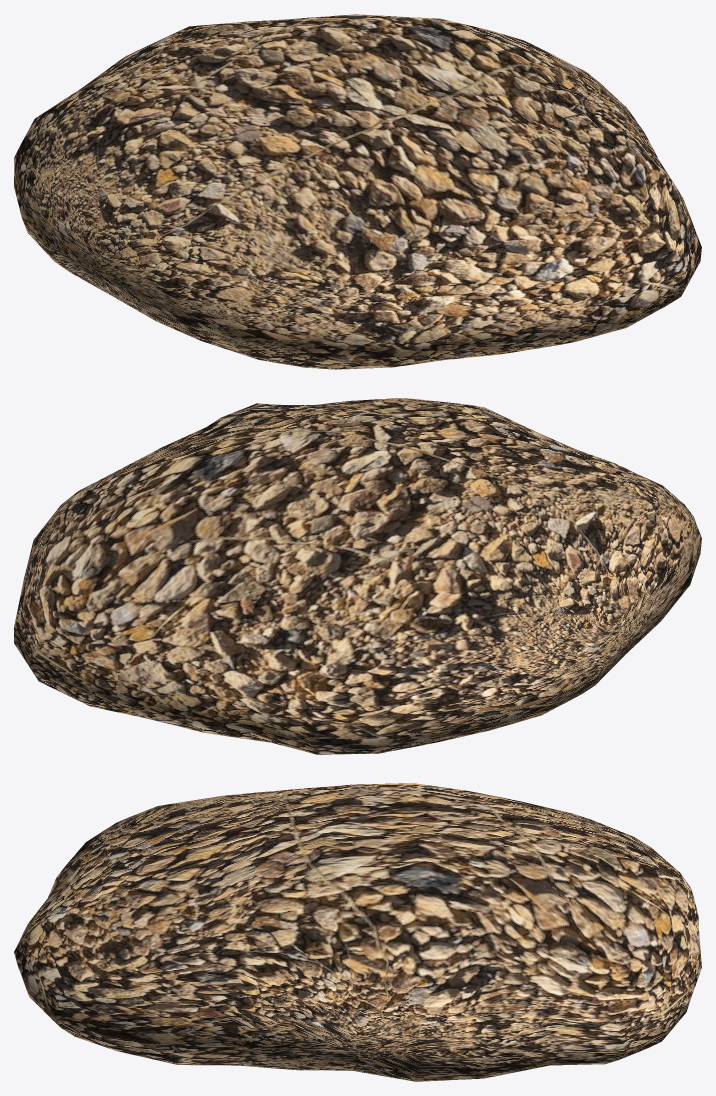
The model's file is dirt.fbx.
3 renders of one model, top to bottom at view 1: azimuth 30°, elevation 25°; view 2: azimuth 150°, elevation 25°; view 3: azimuth 270°, elevation 25°, orthographic. The views are drawn at different scales.
Visible parts, largest first — view 1: dirt; view 2: dirt; view 3: dirt.
Part boxes in pixels (x1=…): dirt: x1=14, y1=14, x2=701, y2=369; dirt: x1=14, y1=398, x2=701, y2=754; dirt: x1=14, y1=783, x2=701, y2=1081.
Size of the model in its own units: 143 by 46.62 by 163.
